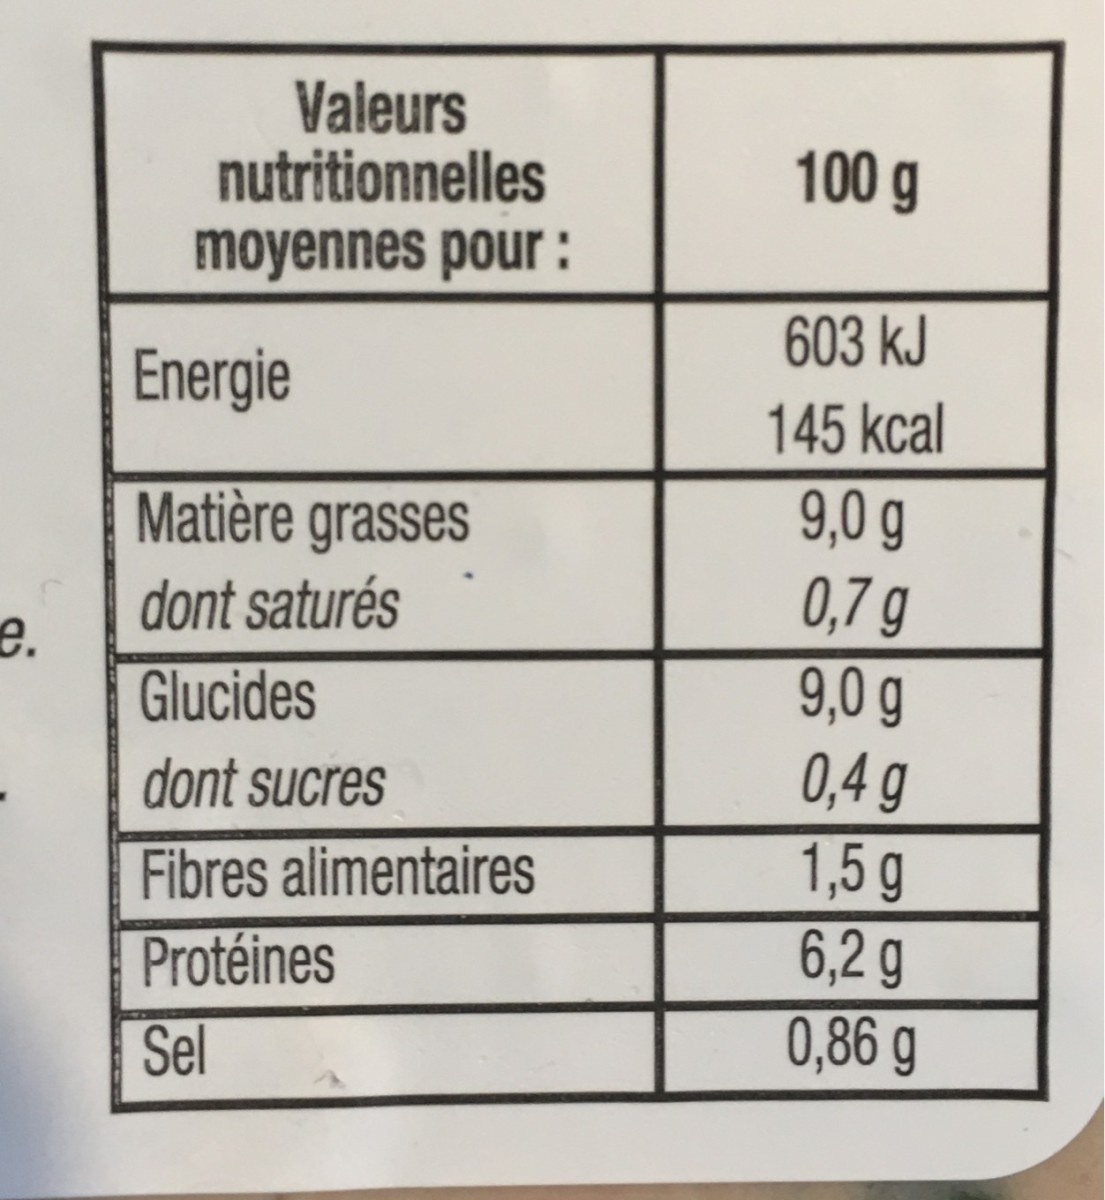column: (105, 50, 645, 1088), (673, 54, 1034, 1092)
table: (93, 34, 1045, 1104)
